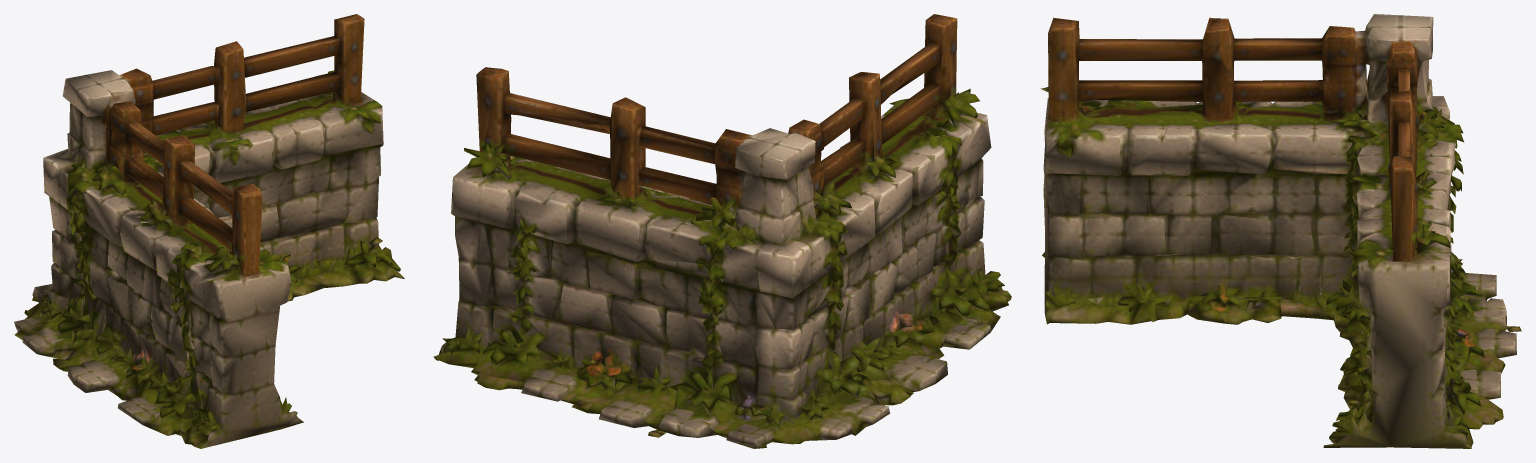
Rendered from terrace-wall.glb.
3 views of the same model, side by side, from view 1: azimuth 30°, elevation 25°; view 2: azimuth 150°, elevation 25°; view 3: azimuth 270°, elevation 25° (orthographic). The views are drawn at different scales.
Visible parts, largest first — view 1: Mesh1.0; view 2: Mesh1.0; view 3: Mesh1.0.
Part boxes in pixels (x1,y1,x2,y2): Mesh1.0: (14, 14, 404, 448); Mesh1.0: (433, 14, 1011, 448); Mesh1.0: (1040, 14, 1521, 448).
Size of the model in its own units: 1.89 by 1.21 by 1.91.
1 material, 1 textured.
